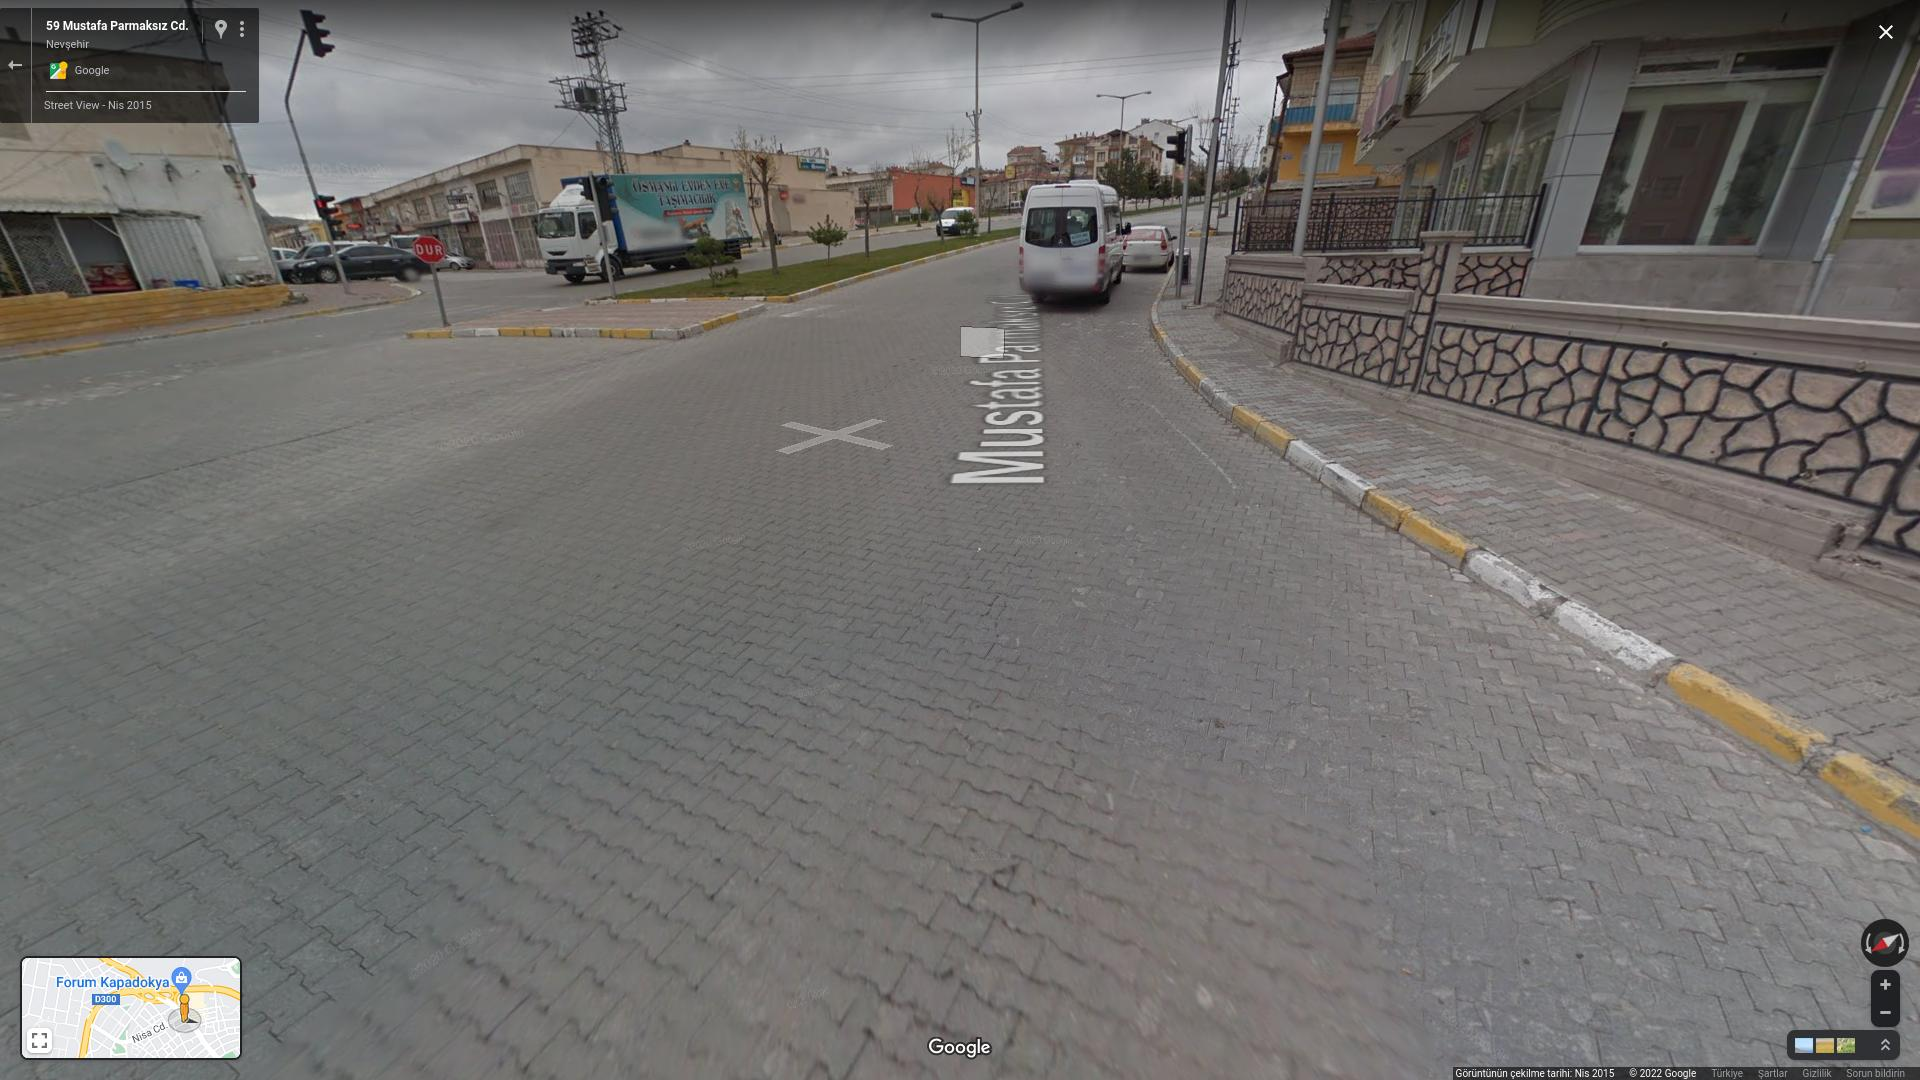stop: (414, 235, 446, 262)
